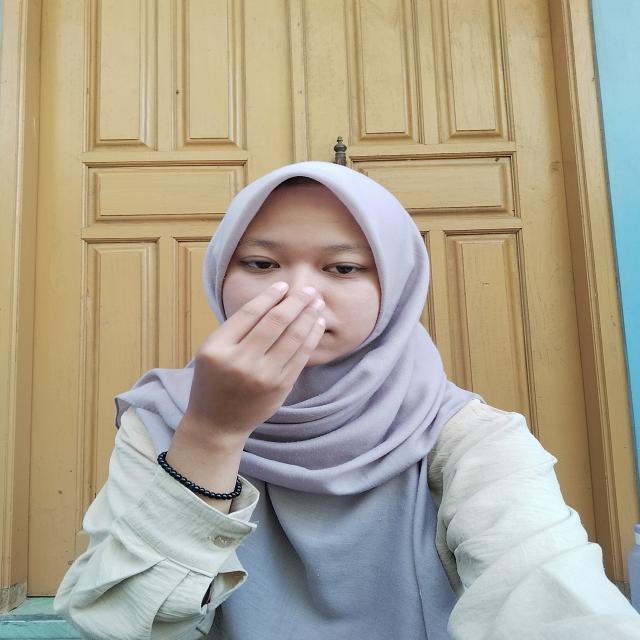bau: (172, 268, 328, 434)
